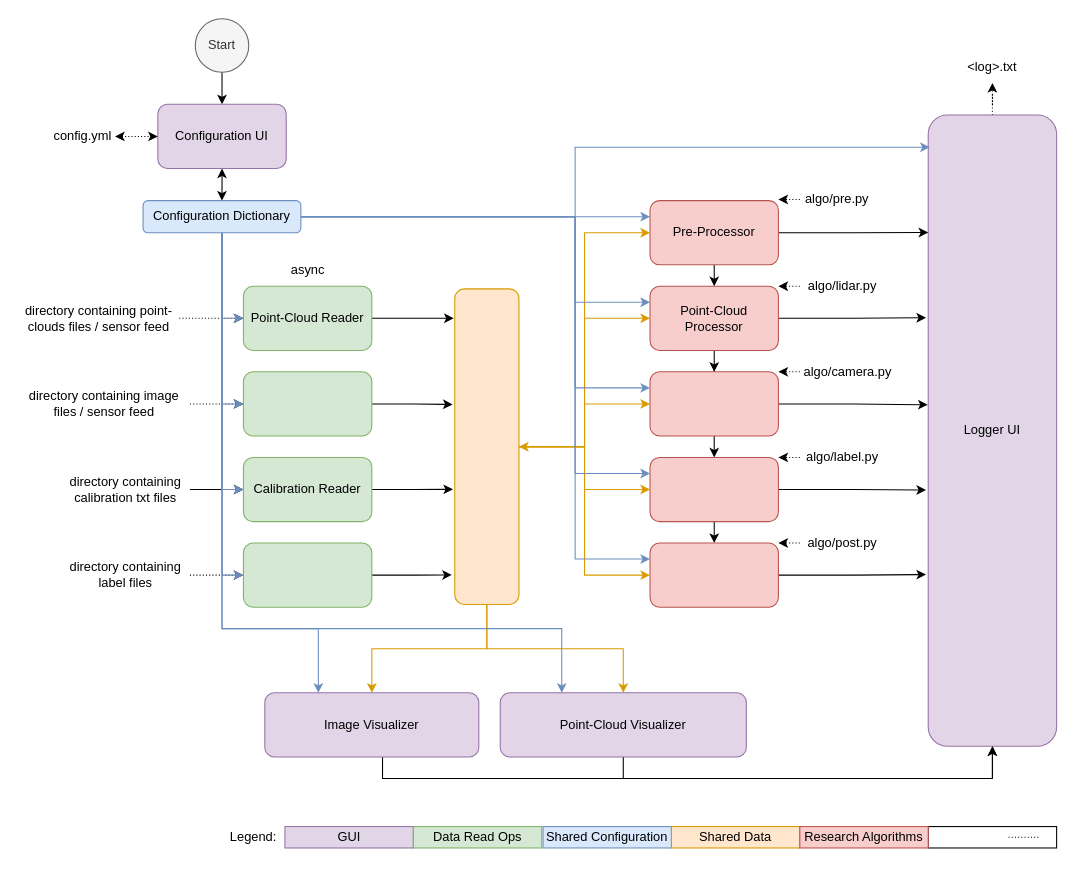
Image size: 1075x872. Some labels were removed from this diagram. The centre of each missing label's shape, as x and y in pixels:
"Data Dictionary" belongs at (486,446).
"directory/file" belongs at (992,837).
"Image Processor" belongs at (713,403).
"Image Reader" belongs at (307,403).
"Label Processor" belongs at (713,489).
"Label Reader" belongs at (307,574).
"Post-Processor" belongs at (713,574).
